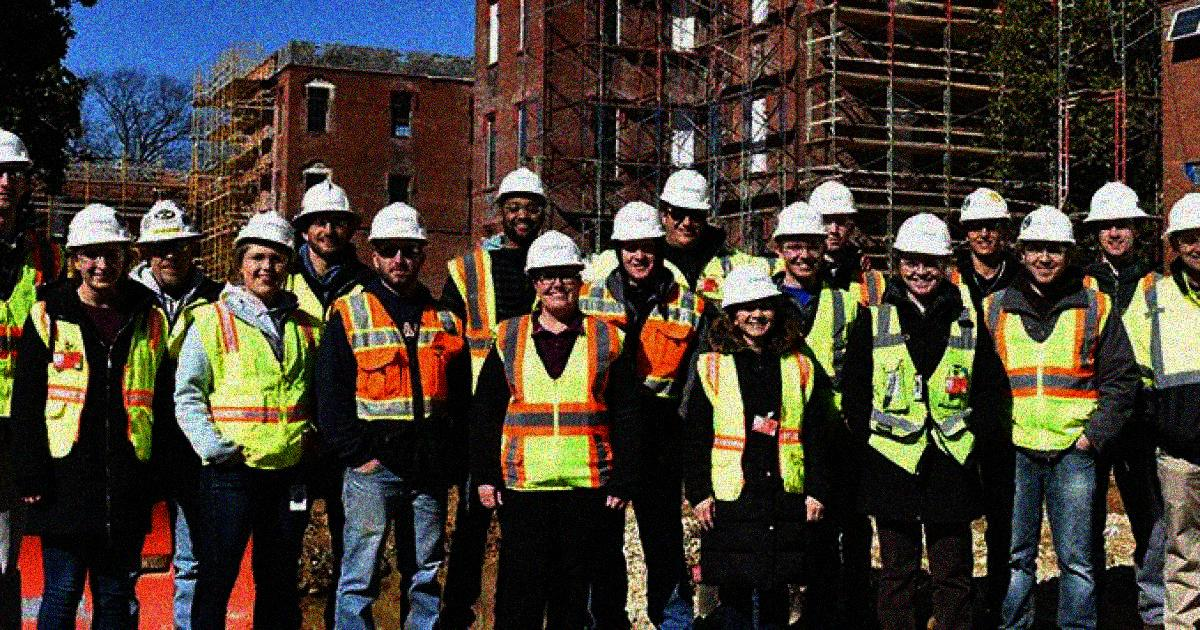helmet: (61, 203, 136, 288), (137, 200, 207, 288), (521, 229, 587, 316), (232, 212, 297, 296), (1085, 178, 1151, 259), (368, 200, 430, 285), (893, 211, 952, 297), (606, 198, 668, 279), (770, 200, 832, 281), (1016, 203, 1075, 286), (294, 179, 360, 253), (720, 265, 784, 340), (490, 164, 547, 240), (659, 168, 712, 242), (959, 184, 1014, 255), (805, 180, 861, 248), (1163, 190, 1200, 276), (1, 124, 31, 213)
